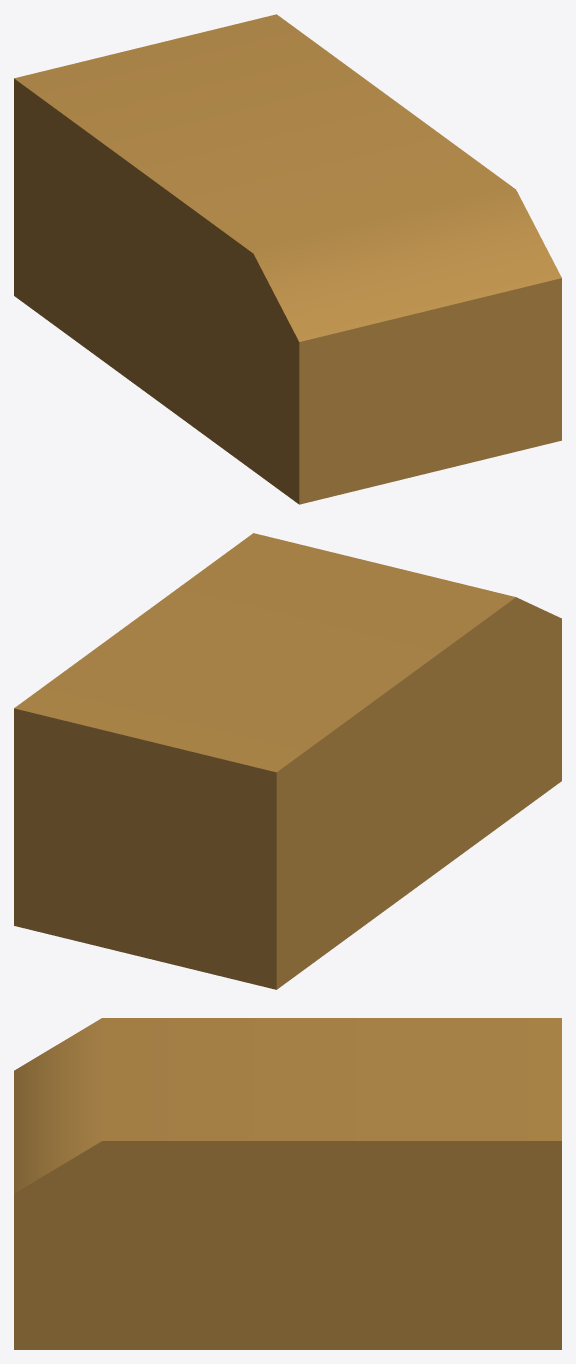
Rendered from DU_電路板_藍_橘色零件.fbx.
The picture shows the model from 3 angles, top to bottom: view 1: azimuth 30°, elevation 25°; view 2: azimuth 150°, elevation 25°; view 3: azimuth 270°, elevation 25°; orthographic projection. The views are drawn at different scales.
Visible parts, largest first — view 1: pCube103; view 2: pCube103; view 3: pCube103.
Part boxes in pixels (x1=…): pCube103: x1=14, y1=14, x2=561, y2=504; pCube103: x1=14, y1=533, x2=561, y2=989; pCube103: x1=14, y1=1018, x2=561, y2=1349.
Size of the model in its own units: 0.6319 by 0.5 by 1.19.
